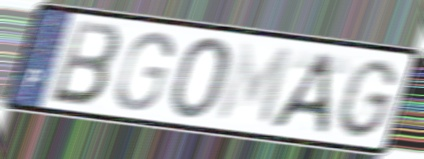A: (265, 50, 336, 137)
B: (47, 17, 124, 109)
G: (332, 56, 402, 141), (113, 30, 176, 113)
M: (213, 40, 296, 130)
O: (167, 35, 233, 122)
